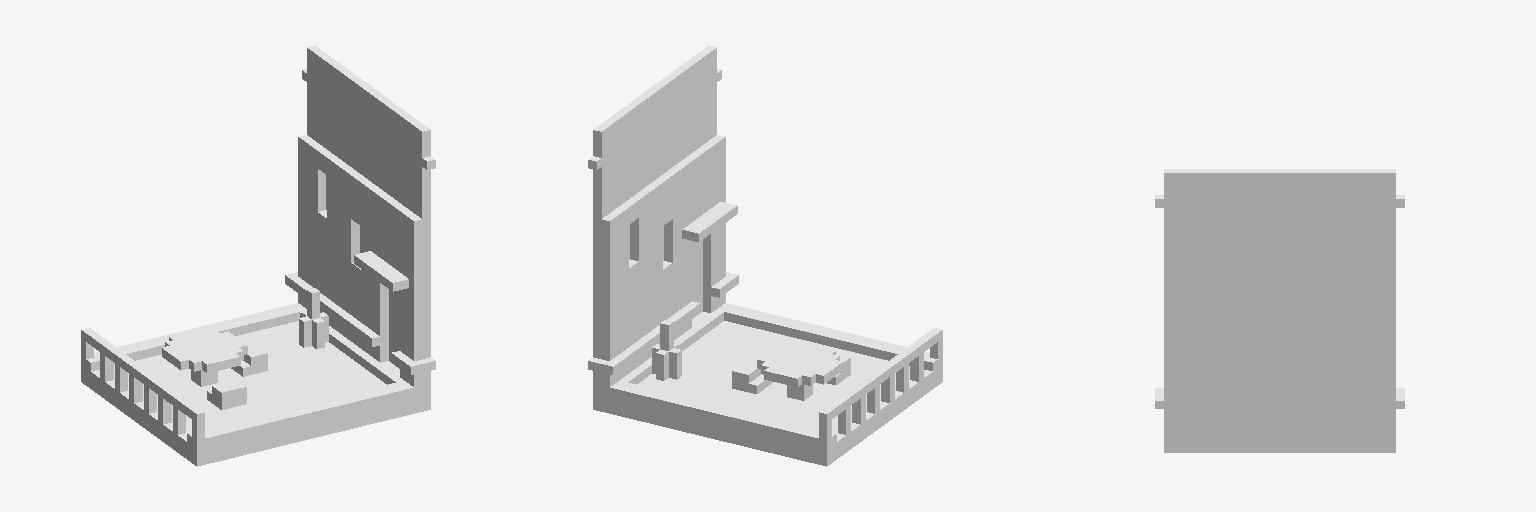
Rendered from tile_3_right_nr.obj.
The picture shows the model from 3 angles: view 1: azimuth 30°, elevation 25°; view 2: azimuth 150°, elevation 25°; view 3: azimuth 270°, elevation 25°; orthographic projection.
Parts seen in each view (by area): view 1: object 1; view 2: object 1; view 3: object 1.
Boxes of the visible parts, x1=… form: object 1: x1=81, y1=45, x2=435, y2=466; object 1: x1=588, y1=45, x2=942, y2=466; object 1: x1=1155, y1=169, x2=1404, y2=452.
Bounding box in the file's own units: 2.8 × 3.2 × 2.6.